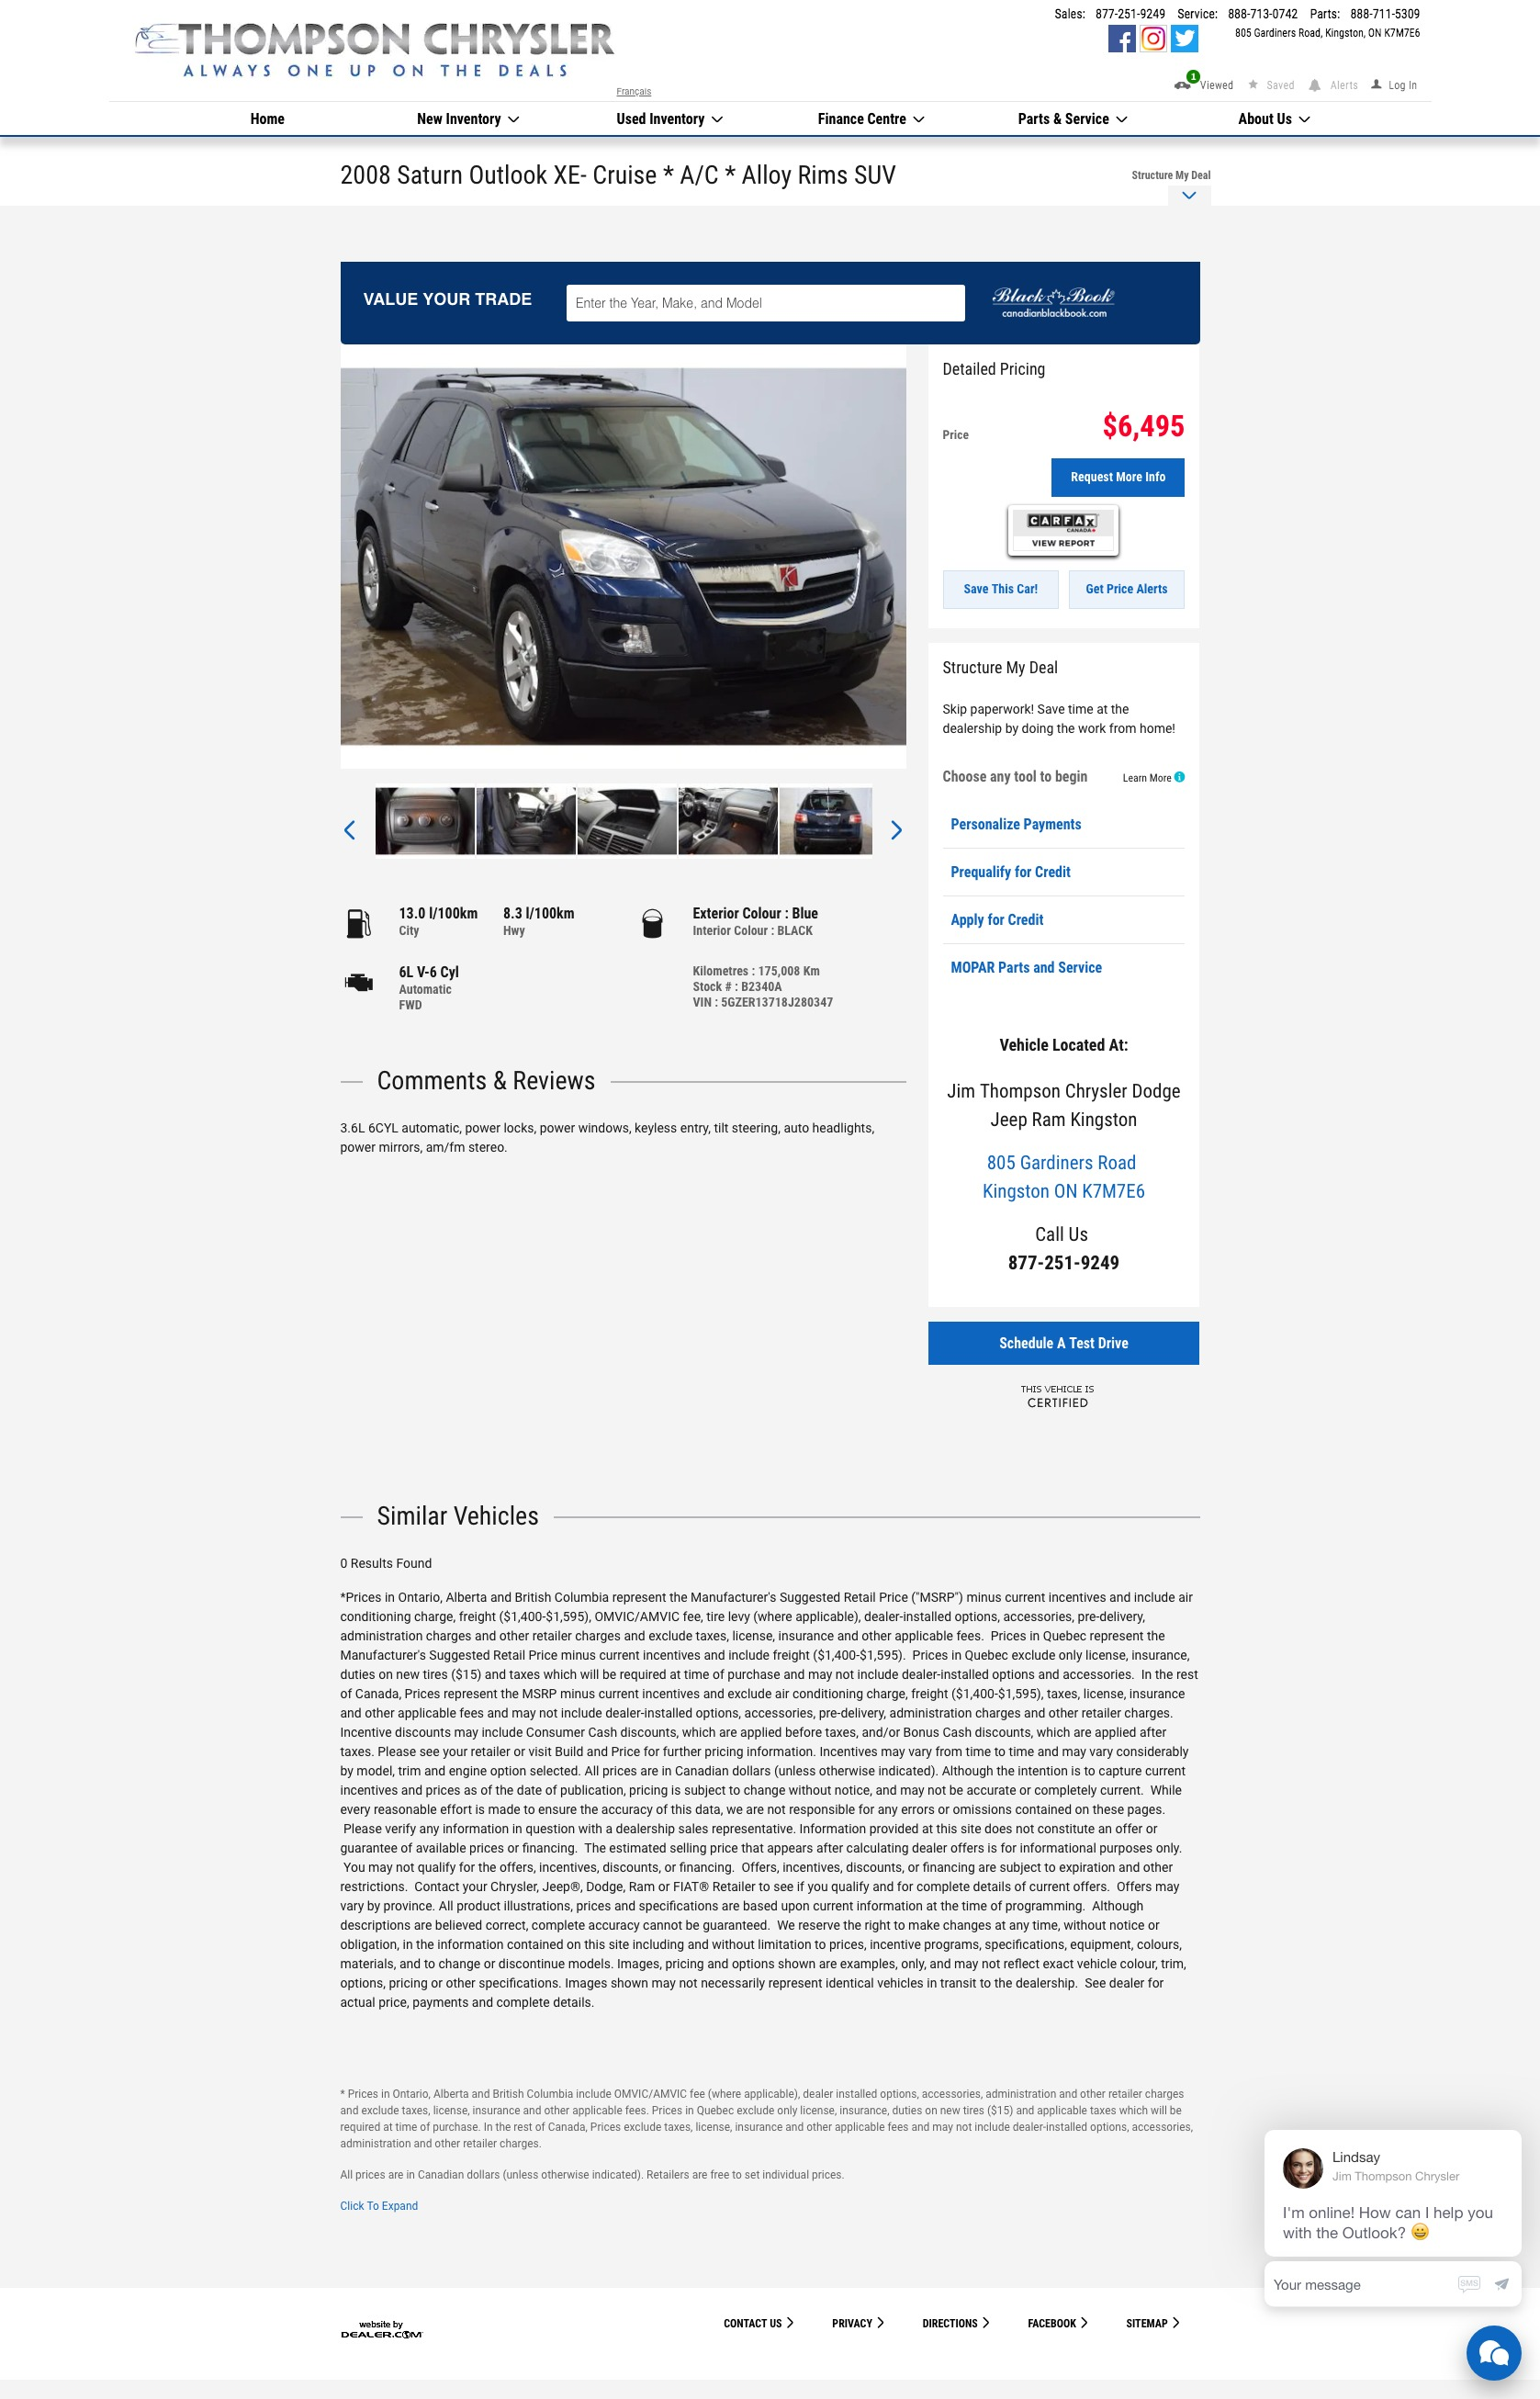car: (891, 820, 902, 841)
